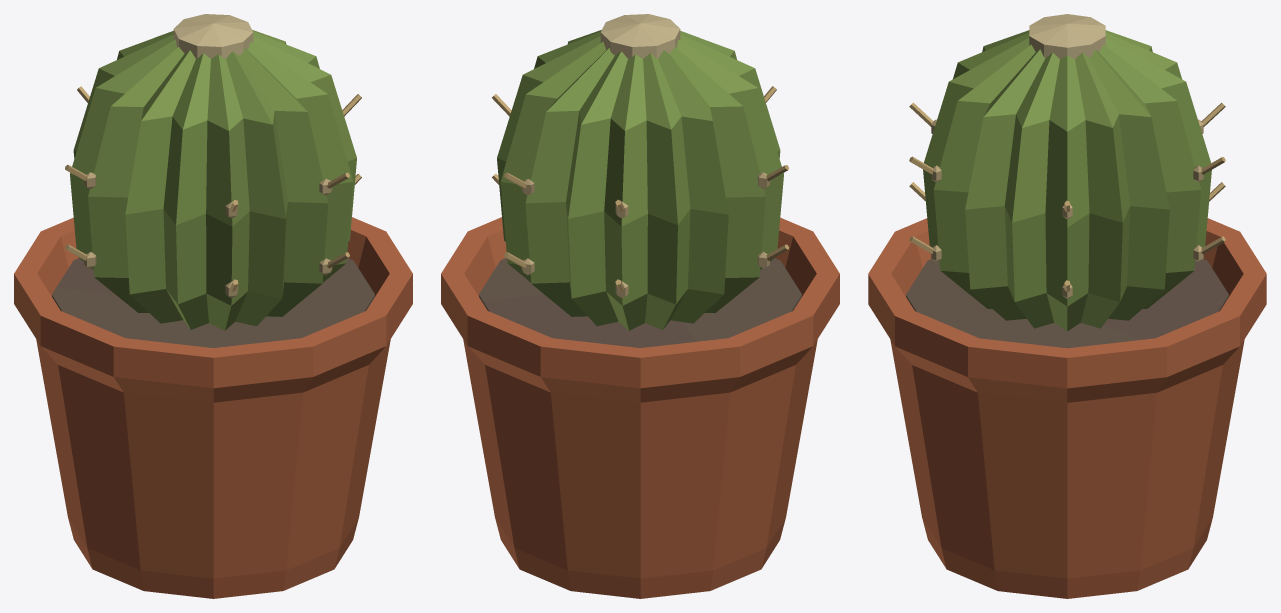
Rendered from barrel.glb.
3 renders of one model, left to right at view 1: azimuth 30°, elevation 25°; view 2: azimuth 150°, elevation 25°; view 3: azimuth 270°, elevation 25°, orthographic.
Visible parts, largest first — view 1: barrel/review-terra-vessel, barrel/ribbed-stem-001, barrel/review-rooted-soil, barrel/woolly-crown-026; view 2: barrel/review-terra-vessel, barrel/ribbed-stem-001, barrel/review-rooted-soil, barrel/woolly-crown-026; view 3: barrel/review-terra-vessel, barrel/ribbed-stem-001, barrel/review-rooted-soil, barrel/woolly-crown-026.
Part boxes in pixels (x1,y1,x2,y2): barrel/review-terra-vessel: [14, 217, 412, 598]; barrel/ribbed-stem-001: [70, 30, 356, 330]; barrel/review-rooted-soil: [52, 258, 374, 347]; barrel/woolly-crown-026: [173, 14, 253, 58]; barrel/review-terra-vessel: [441, 217, 839, 598]; barrel/ribbed-stem-001: [497, 30, 783, 330]; barrel/review-rooted-soil: [479, 258, 801, 347]; barrel/woolly-crown-026: [600, 14, 680, 58]; barrel/review-terra-vessel: [868, 218, 1266, 598]; barrel/ribbed-stem-001: [923, 30, 1211, 331]; barrel/review-rooted-soil: [906, 259, 1228, 348]; barrel/woolly-crown-026: [1029, 14, 1105, 58].
Bounding box in the file's own units: 0.19 × 0.2715 × 0.19.
6 materials, 6 textured.
